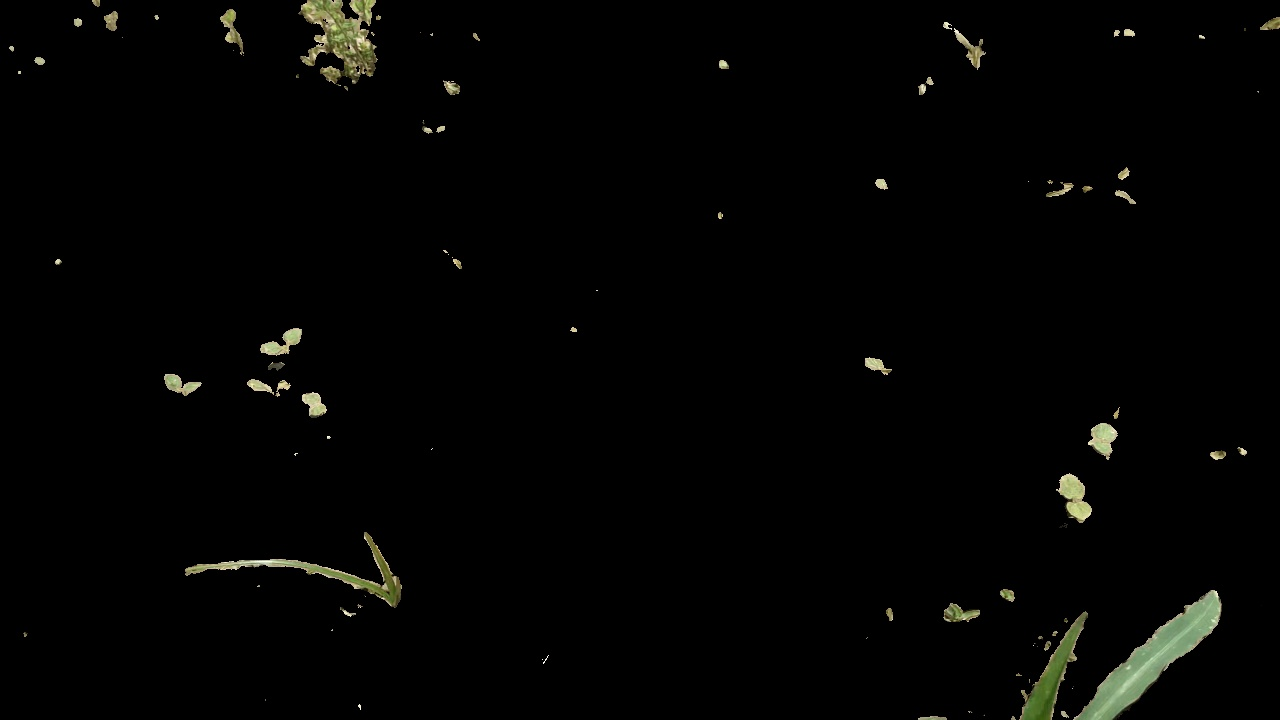crop: (989, 582, 1249, 720)
weed: (173, 521, 410, 614), (292, 1, 378, 91), (933, 17, 999, 67), (1048, 462, 1096, 527), (1085, 411, 1125, 469), (158, 358, 206, 402), (212, 1, 249, 55), (241, 364, 291, 395), (856, 345, 901, 379), (259, 318, 305, 351), (293, 387, 331, 418), (938, 602, 979, 625), (416, 117, 453, 139)
